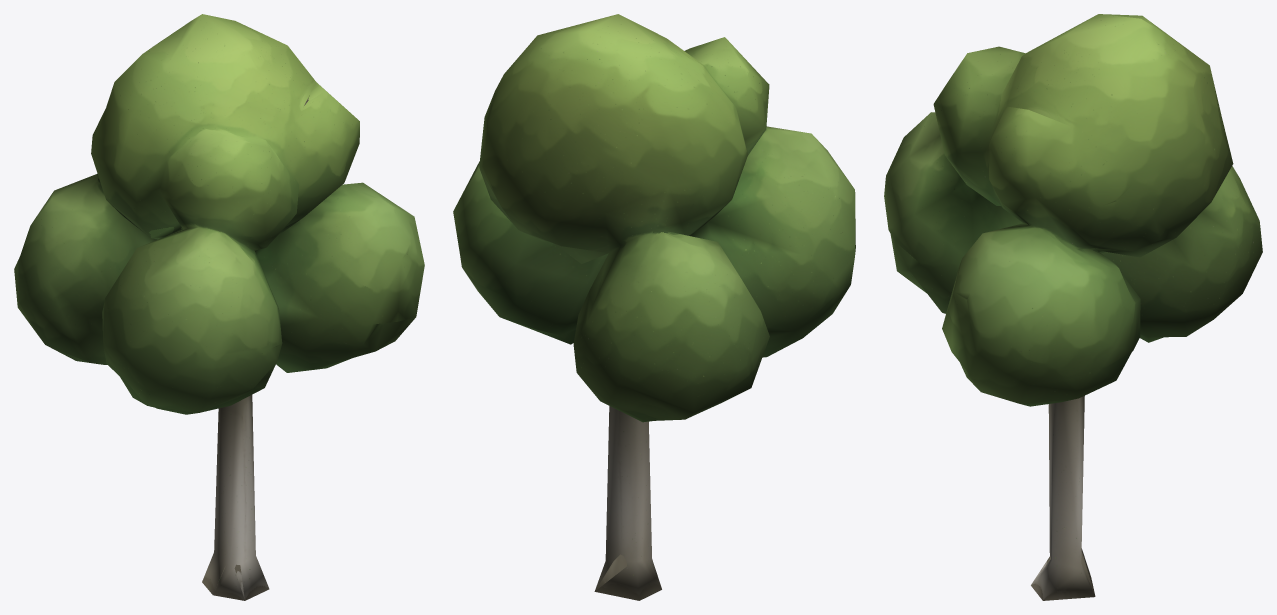
File: linden.glb
The picture shows the model from 3 angles, left to right: view 1: azimuth 30°, elevation 25°; view 2: azimuth 150°, elevation 25°; view 3: azimuth 270°, elevation 25°; orthographic projection. The views are drawn at different scales.
Parts seen in each view (by area): view 1: geometry_0.001; view 2: geometry_0.001; view 3: geometry_0.001.
Boxes of the visible parts, x1,y1,x2,y2 form: geometry_0.001: (14,14,424,600); geometry_0.001: (453,14,855,600); geometry_0.001: (884,14,1262,600).
Size of the model in its own units: 1.26 by 1.99 by 1.2.
1 material, 1 textured.
